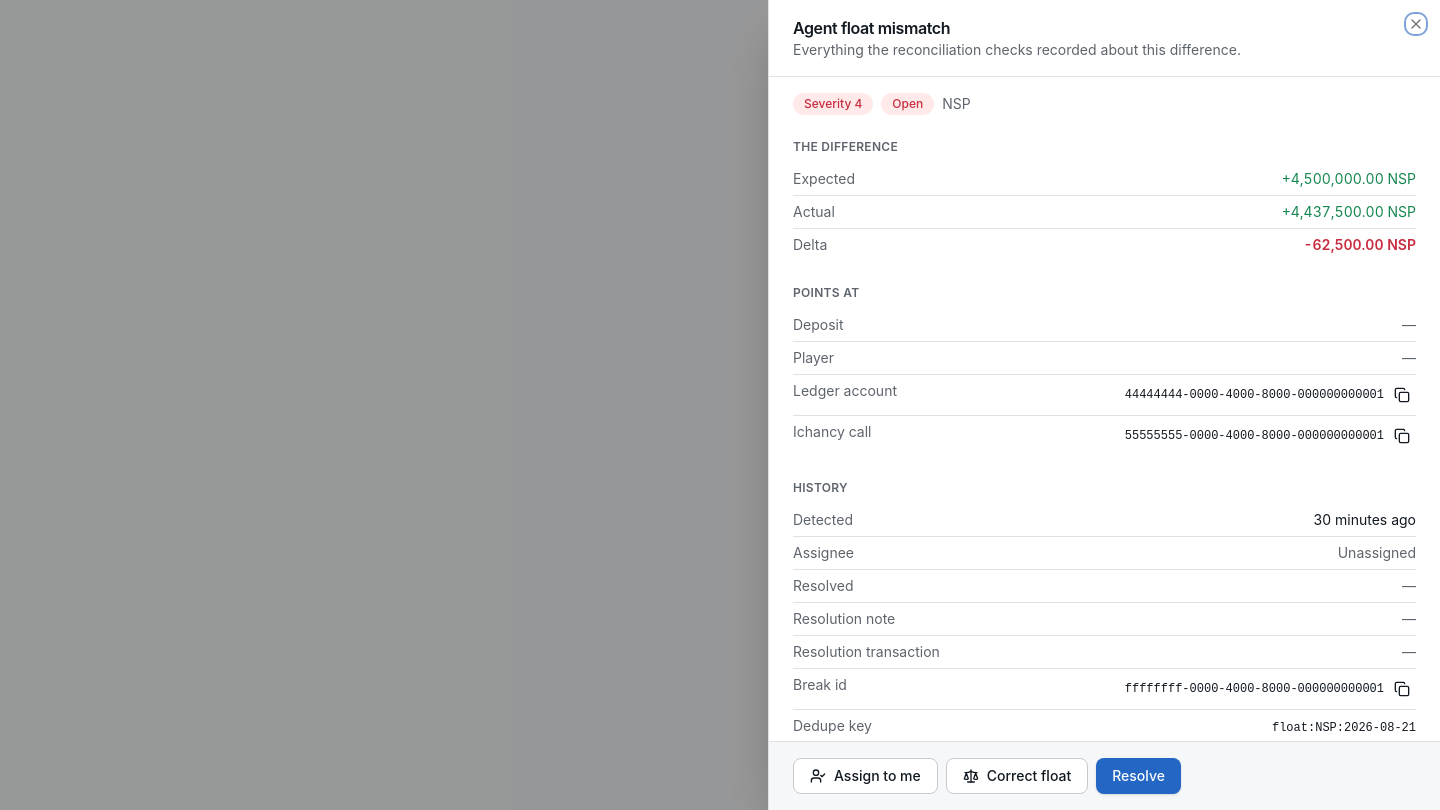
Test: BreakDetailSheet › assigns the break to the signed-in admin
Step 1. Click the button "Assign to me" → (865, 776), box [793,758,938,794]
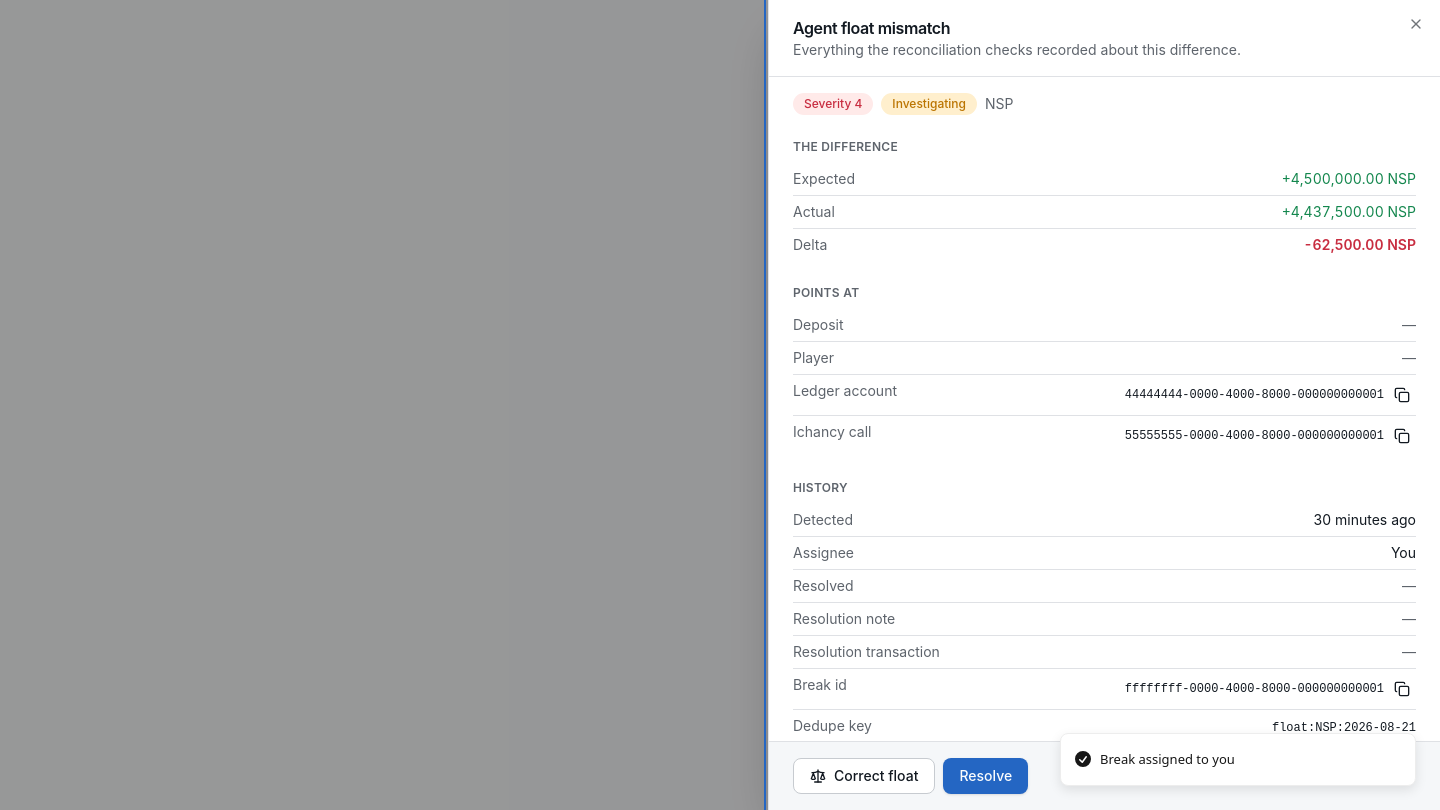
Now the text "Break assigned to you" is shown, box [1100,750,1235,769]
Now the button "Assign to me" is gone
